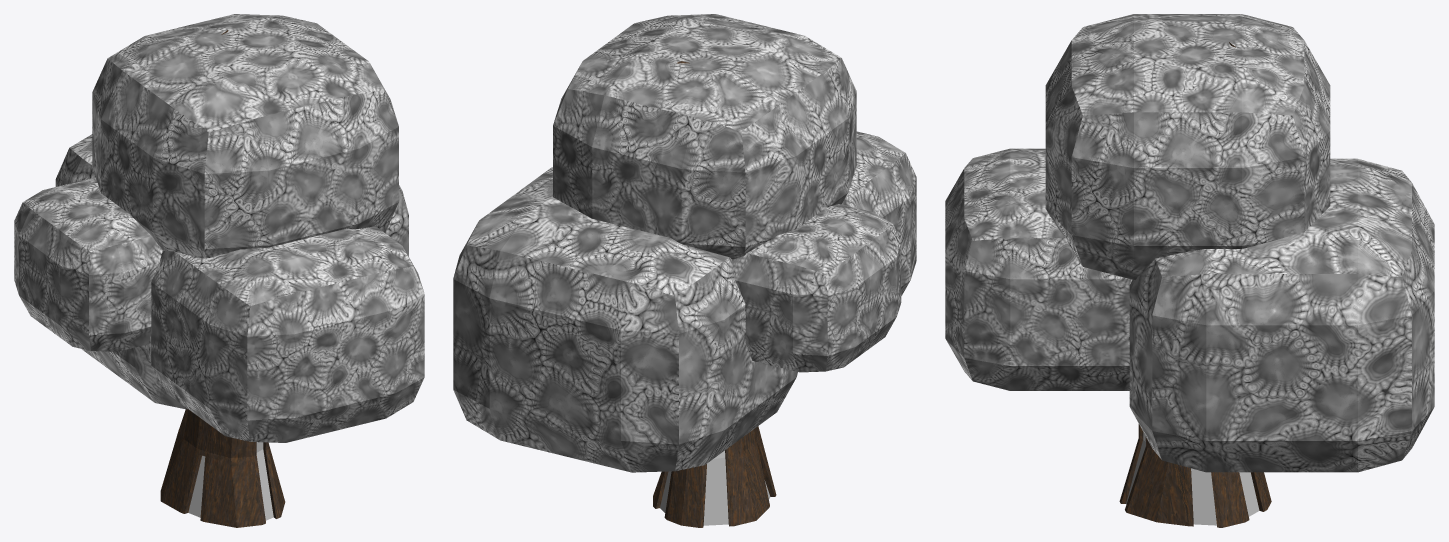
The model's file is Bush.fbx.
3 renders of one model, left to right at view 1: azimuth 30°, elevation 25°; view 2: azimuth 150°, elevation 25°; view 3: azimuth 270°, elevation 25°, orthographic. The views are drawn at different scales.
Parts seen in each view (by area): view 1: Cube; view 2: Cube; view 3: Cube.
Part boxes in pixels (x1,y1,x2,y2): Cube: (14,14,424,527); Cube: (453,14,916,527); Cube: (945,14,1434,527).
Size of the model in its own units: 3.4 by 4.12 by 3.91.
